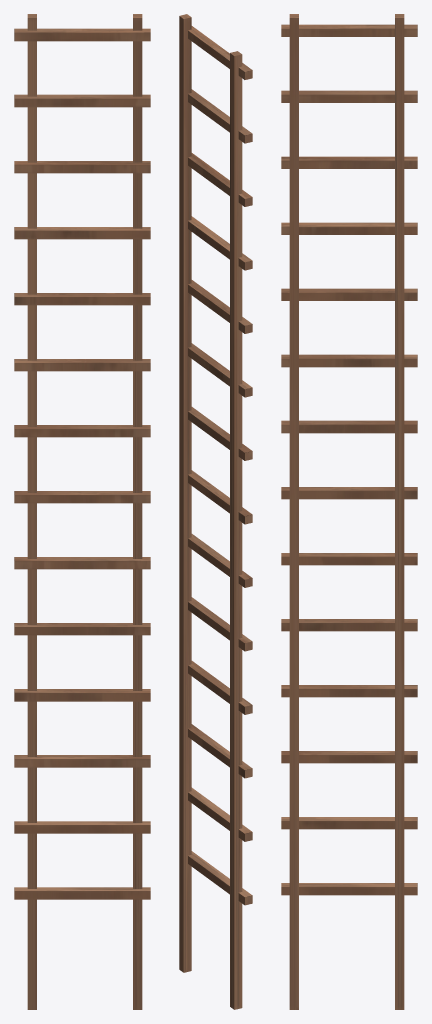
3 renders of one model, left to right at view 1: azimuth 90°, elevation 25°; view 2: azimuth 210°, elevation 25°; view 3: azimuth 270°, elevation 25°, orthographic. The views are drawn at different scales.
Visible parts, largest first — view 1: Cube_Baked; view 2: Cube_Baked; view 3: Cube_Baked.
Part boxes in pixels (x1=…): Cube_Baked: x1=14, y1=14, x2=150, y2=1009; Cube_Baked: x1=179, y1=14, x2=252, y2=1009; Cube_Baked: x1=281, y1=14, x2=417, y2=1009.
Size of the model in its own units: 16.23 by 1246 by 155.
